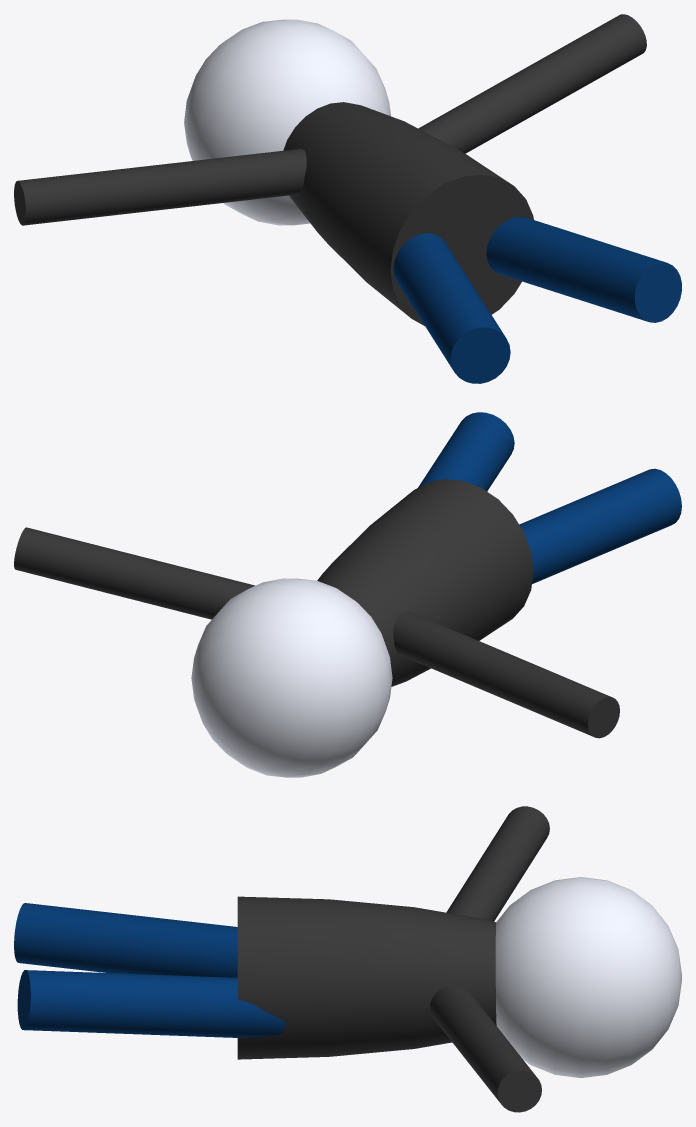
File: character.fbx
The picture shows the model from 3 angles, top to bottom: view 1: azimuth 30°, elevation 25°; view 2: azimuth 150°, elevation 25°; view 3: azimuth 270°, elevation 25°; orthographic projection. The views are drawn at different scales.
Visible parts, largest first — view 1: mergedBlocks; view 2: mergedBlocks; view 3: mergedBlocks.
Part boxes in pixels (bbox=[...]): mergedBlocks: bbox=[14, 14, 681, 383]; mergedBlocks: bbox=[14, 412, 681, 777]; mergedBlocks: bbox=[14, 806, 681, 1112].
Size of the model in its own units: 34.39 by 10 by 33.08.
